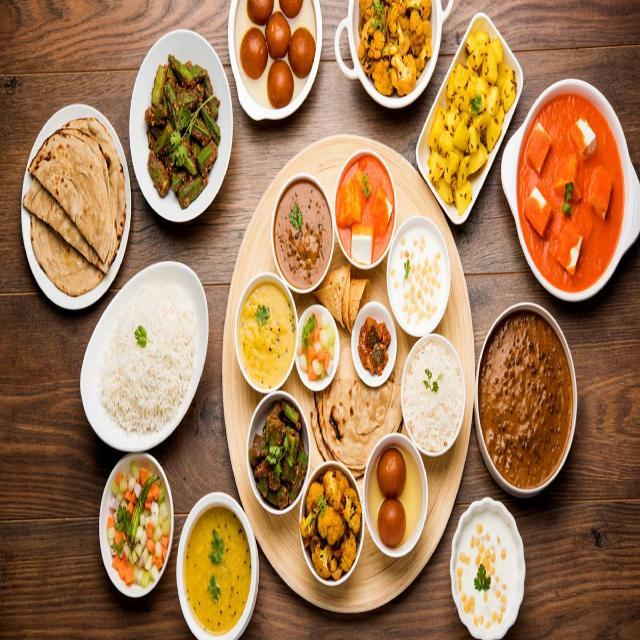dal: (228, 277, 301, 389)
papad: (19, 114, 130, 295), (309, 242, 387, 337)
raita: (387, 220, 454, 335)
rice: (96, 269, 206, 444), (347, 0, 440, 100), (224, 271, 300, 393), (400, 337, 471, 453)
roti: (312, 360, 399, 455)
sambar-rasam: (516, 75, 626, 298)
sweet: (518, 84, 624, 290), (227, 4, 321, 108), (329, 144, 401, 267), (361, 437, 426, 555)
veg-fry: (425, 13, 517, 204)
